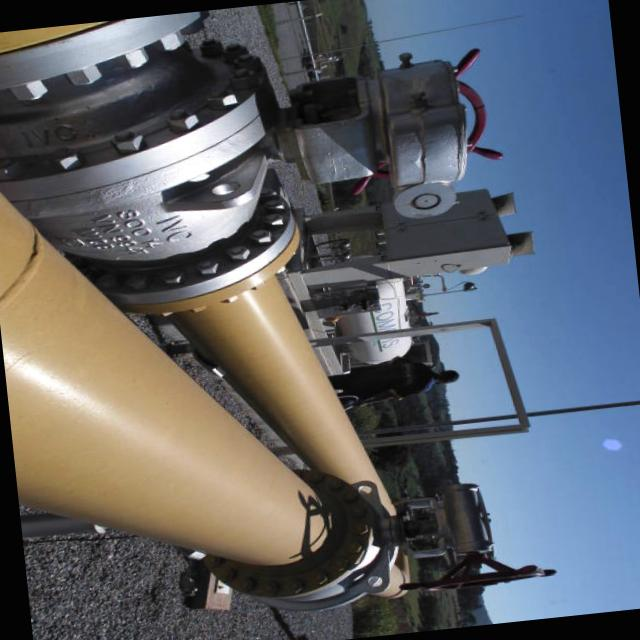gas: (0, 26, 396, 514), (0, 193, 404, 597)
